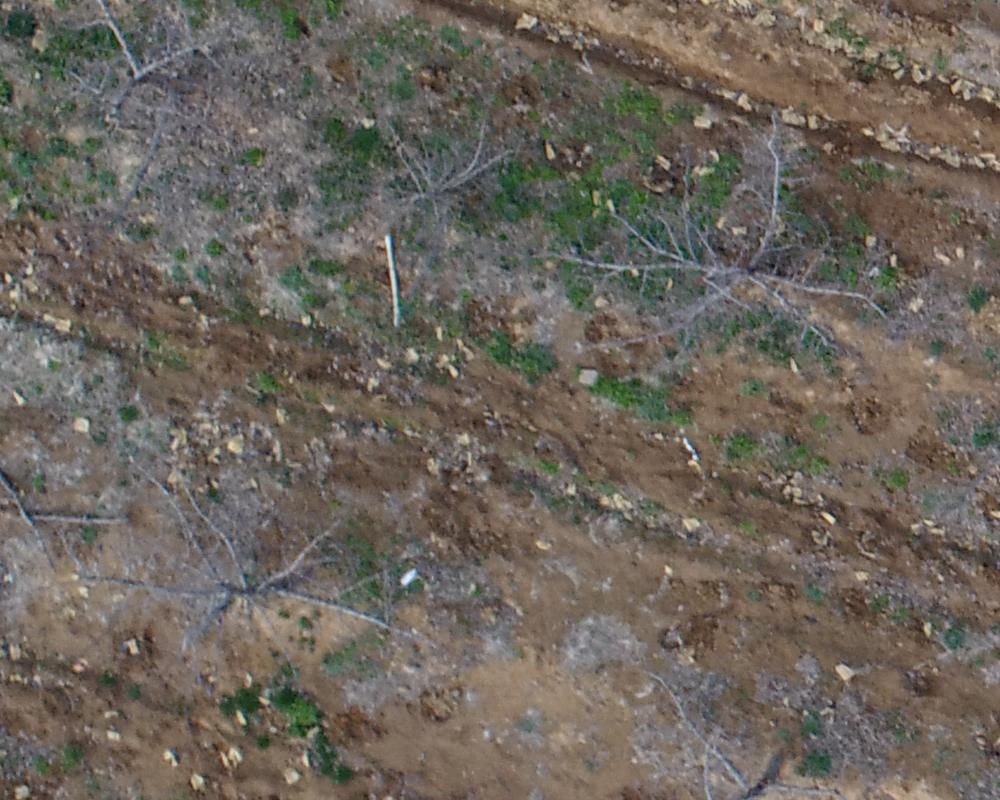apple: (573, 121, 896, 371), (72, 475, 422, 654), (17, 10, 244, 157), (331, 96, 531, 249), (599, 690, 840, 790)
